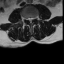CCS_normal: (29, 15, 31, 25)
LFS_stenosis: (33, 15, 35, 21)
LLS_normal: (31, 16, 33, 22)
RFS_stenosis: (25, 16, 27, 21)
RLS_normal: (27, 16, 29, 22)
